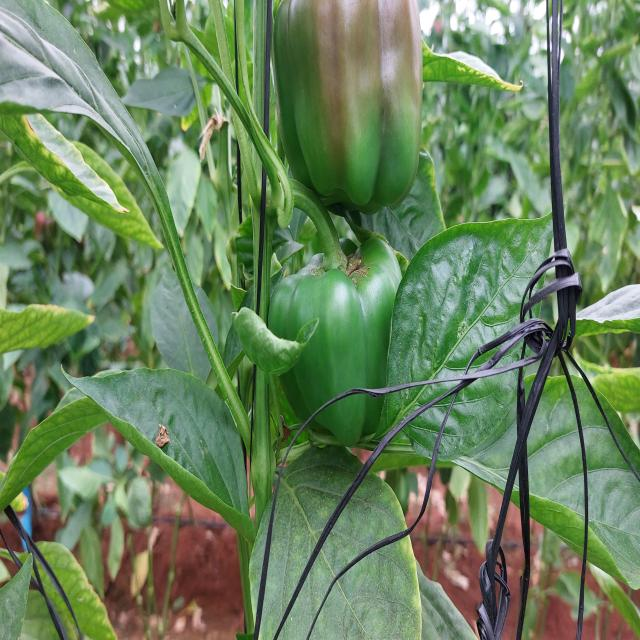BrownishRed--Can-be-Harvested: (274, 10, 436, 206), (267, 251, 424, 447)
